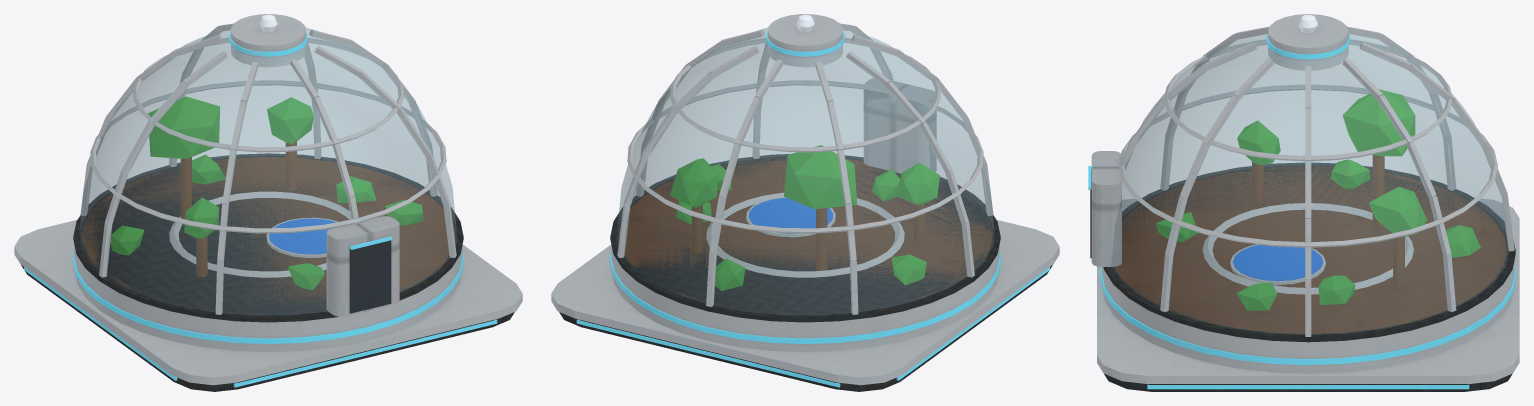
Rendered from enterprise_biodome.glb.
The picture shows the model from 3 angles, left to right: view 1: azimuth 30°, elevation 25°; view 2: azimuth 150°, elevation 25°; view 3: azimuth 270°, elevation 25°; orthographic projection. The views are drawn at different scales.
Parts seen in each view (by area): view 1: te_enterprise_biodome; view 2: te_enterprise_biodome; view 3: te_enterprise_biodome.
Boxes of the visible parts, left/top/right/bottom form: te_enterprise_biodome: left=14, top=14, right=522, bottom=391; te_enterprise_biodome: left=551, top=14, right=1059, bottom=391; te_enterprise_biodome: left=1088, top=14, right=1519, bottom=391.
Bounding box in the file's own units: 0.84 × 0.635 × 0.857.
Materials: 2 (1 with a texture image).
